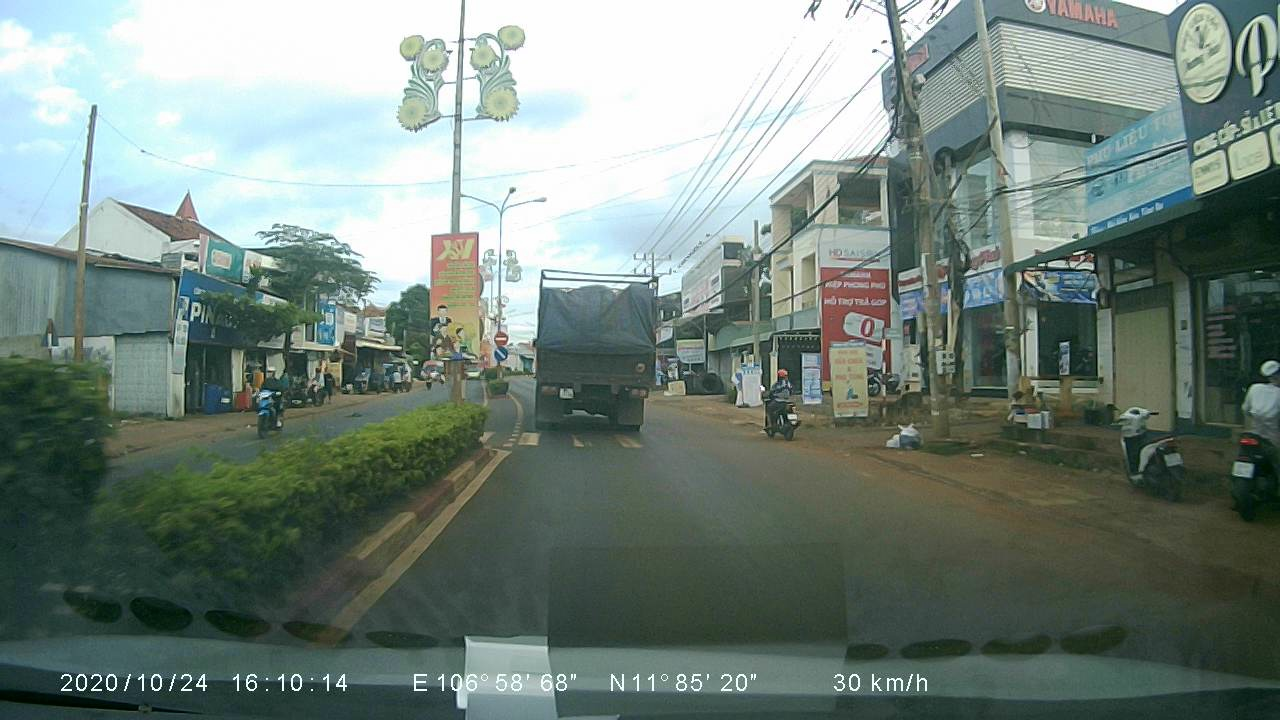Cam di nguoc chieu: (492, 331, 508, 348)
Huong di phai re phai: (491, 347, 509, 363)
